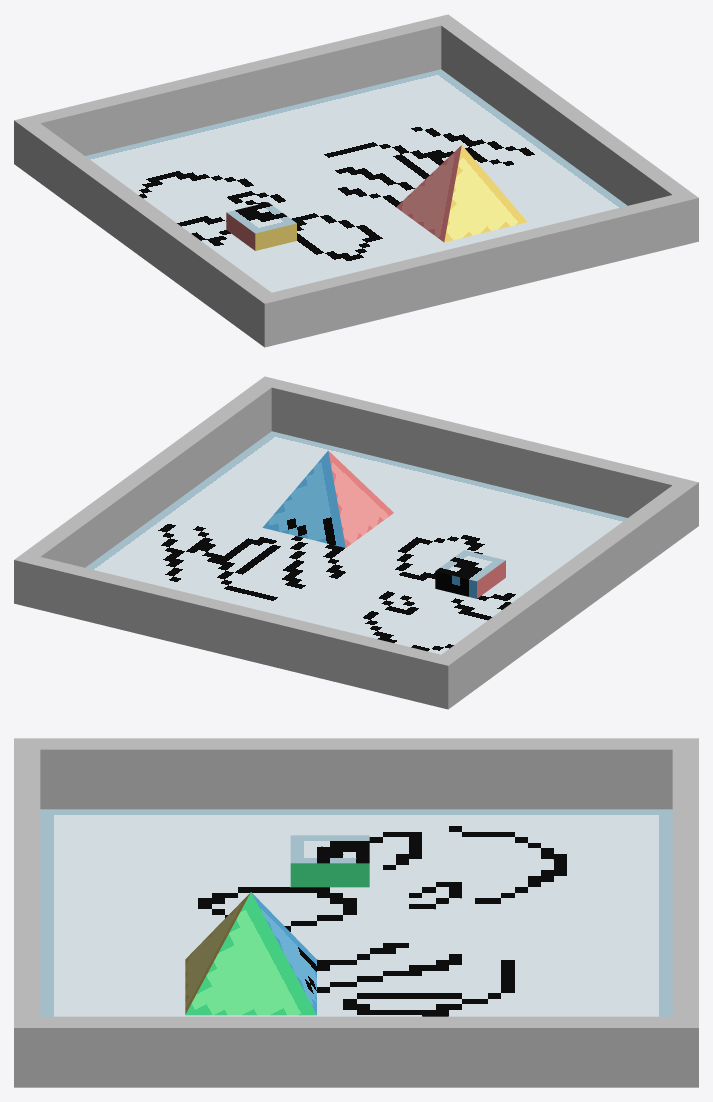
Rendered from CubeRoom.obj.
3 renders of one model, top to bottom at view 1: azimuth 30°, elevation 25°; view 2: azimuth 150°, elevation 25°; view 3: azimuth 270°, elevation 25°, orthographic. The views are drawn at different scales.
Visible parts, largest first — view 1: cube, plane, pyramid; view 2: cube, plane, pyramid; view 3: plane, cube, pyramid.
Part boxes in pixels (x1=…): cube: x1=14, y1=14, x2=698, y2=347; plane: x1=85, y1=69, x2=627, y2=292; pyramid: x1=396, y1=145, x2=527, y2=242; cube: x1=14, y1=376, x2=698, y2=709; plane: x1=85, y1=431, x2=627, y2=654; pyramid: x1=262, y1=450, x2=393, y2=547; plane: x1=40, y1=809, x2=672, y2=1016; cube: x1=14, y1=738, x2=698, y2=1087; pyramid: x1=185, y1=892, x2=316, y2=1015.
Size of the model in its own units: 3.25 by 0.5 by 3.25.
Materials: 4 (3 with a texture image).
